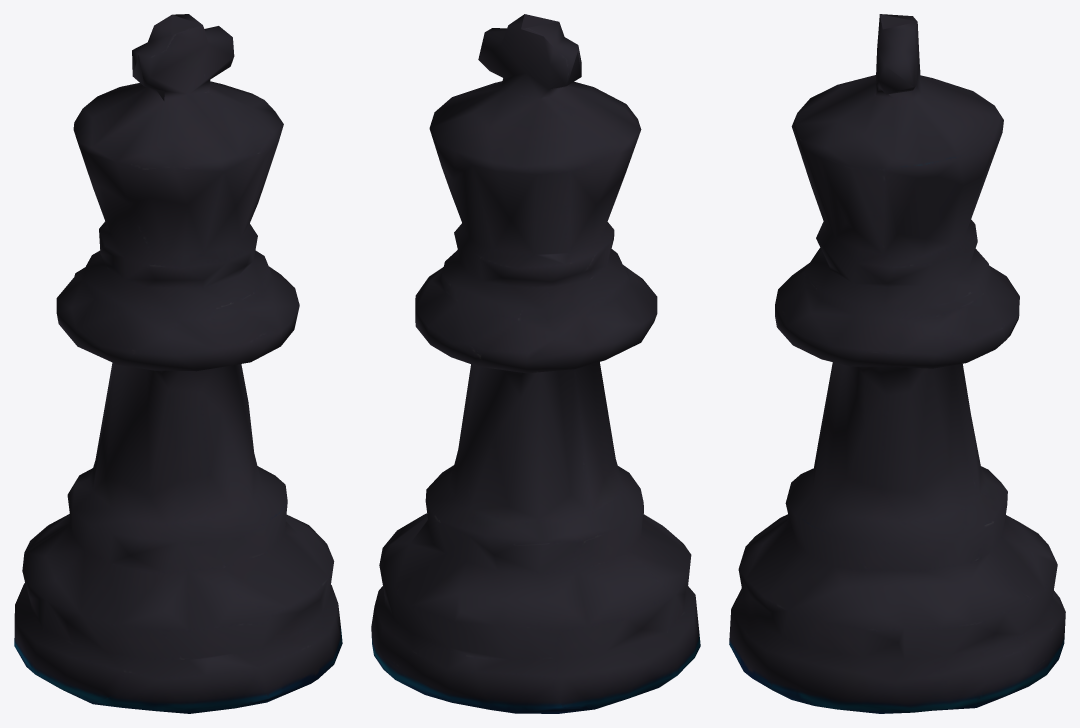
Rendered from chess-bishop-black.glb.
3 renders of one model, left to right at view 1: azimuth 30°, elevation 25°; view 2: azimuth 150°, elevation 25°; view 3: azimuth 270°, elevation 25°, orthographic.
Visible parts, largest first — view 1: geometry_0.001; view 2: geometry_0.001; view 3: geometry_0.001.
Boxes of the visible parts, x1=… form: geometry_0.001: x1=14, y1=14, x2=342, y2=713; geometry_0.001: x1=371, y1=14, x2=700, y2=713; geometry_0.001: x1=729, y1=14, x2=1065, y2=713.
Bounding box in the file's own units: 0.4766 × 0.9991 × 0.4854.
1 material, 1 textured.
